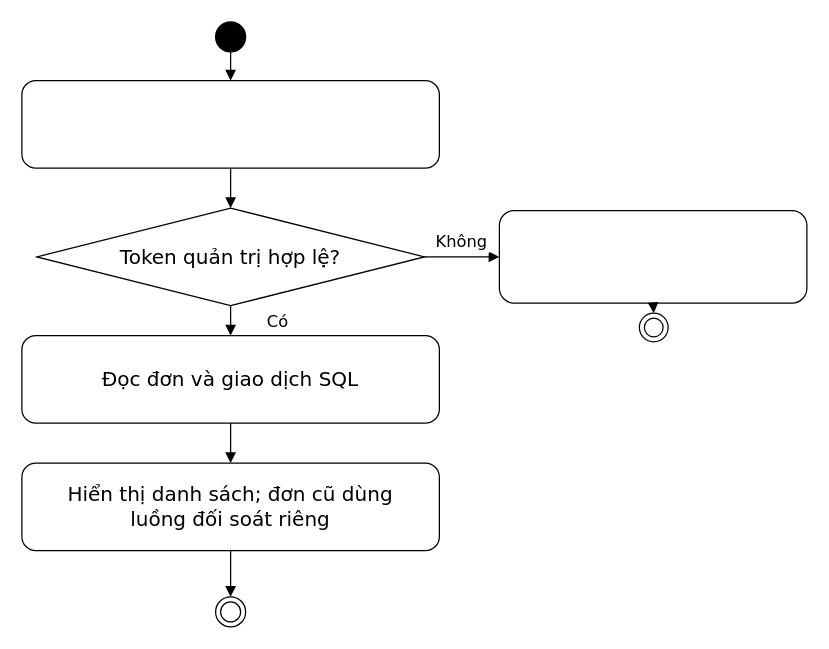
This 829x649 diagram has some shape labels left out. Here are the shapes that lost their labels. From the top down, the centre of each, then its label:
At (x=230, y=123): "Mở danh sách đơn và giao dịch".
At (x=652, y=256): "API từ chối yêu cầu".
